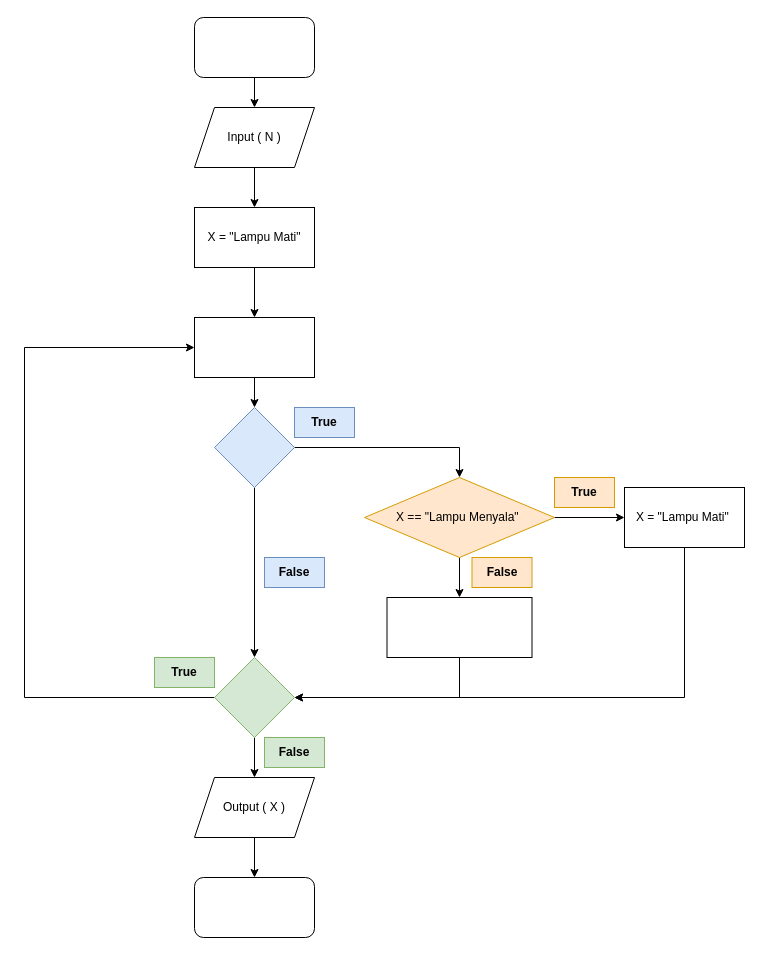
The diagram is 762 pixels wide and 955 high, and some of its shapes have lost their labels. Here are the shapes that lost their labels. From the top down, the centre of each, then its label:
point (254, 47): Start
point (254, 347): i = 1; i <= N; i++
point (254, 447): N % i == 0
point (459, 627): X = "Lampu Menyala"
point (254, 697): i < N
point (254, 907): End
